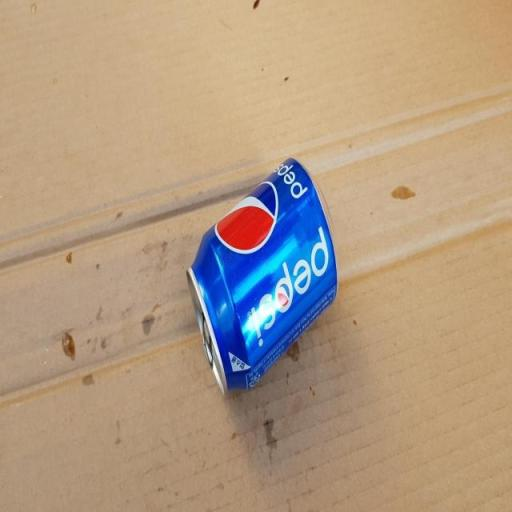metal: (178, 137, 346, 406)
